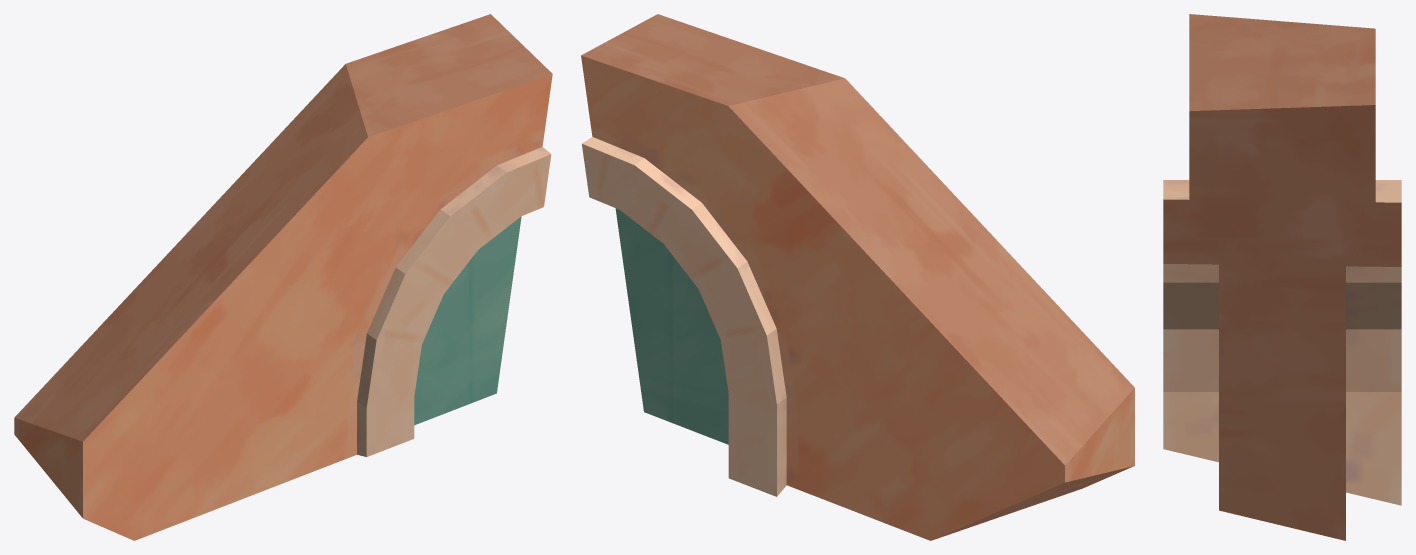
The model's file is wall2_shutter_s08.fbx.
The picture shows the model from 3 angles, left to right: view 1: azimuth 30°, elevation 25°; view 2: azimuth 150°, elevation 25°; view 3: azimuth 270°, elevation 25°; orthographic projection. The views are drawn at different scales.
Visible parts, largest first — view 1: wall2_shutter_s08; view 2: wall2_shutter_s08; view 3: wall2_shutter_s08.
Part boxes in pixels (box(x1,y1,x2,y2)): wall2_shutter_s08: box(14, 14, 552, 540); wall2_shutter_s08: box(581, 14, 1134, 540); wall2_shutter_s08: box(1163, 14, 1401, 540).
Bounding box in the file's own units: 4 × 3.16 × 1.28.
